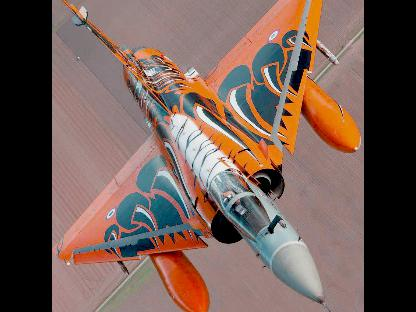Mirage2000: (52, 0, 362, 311)
